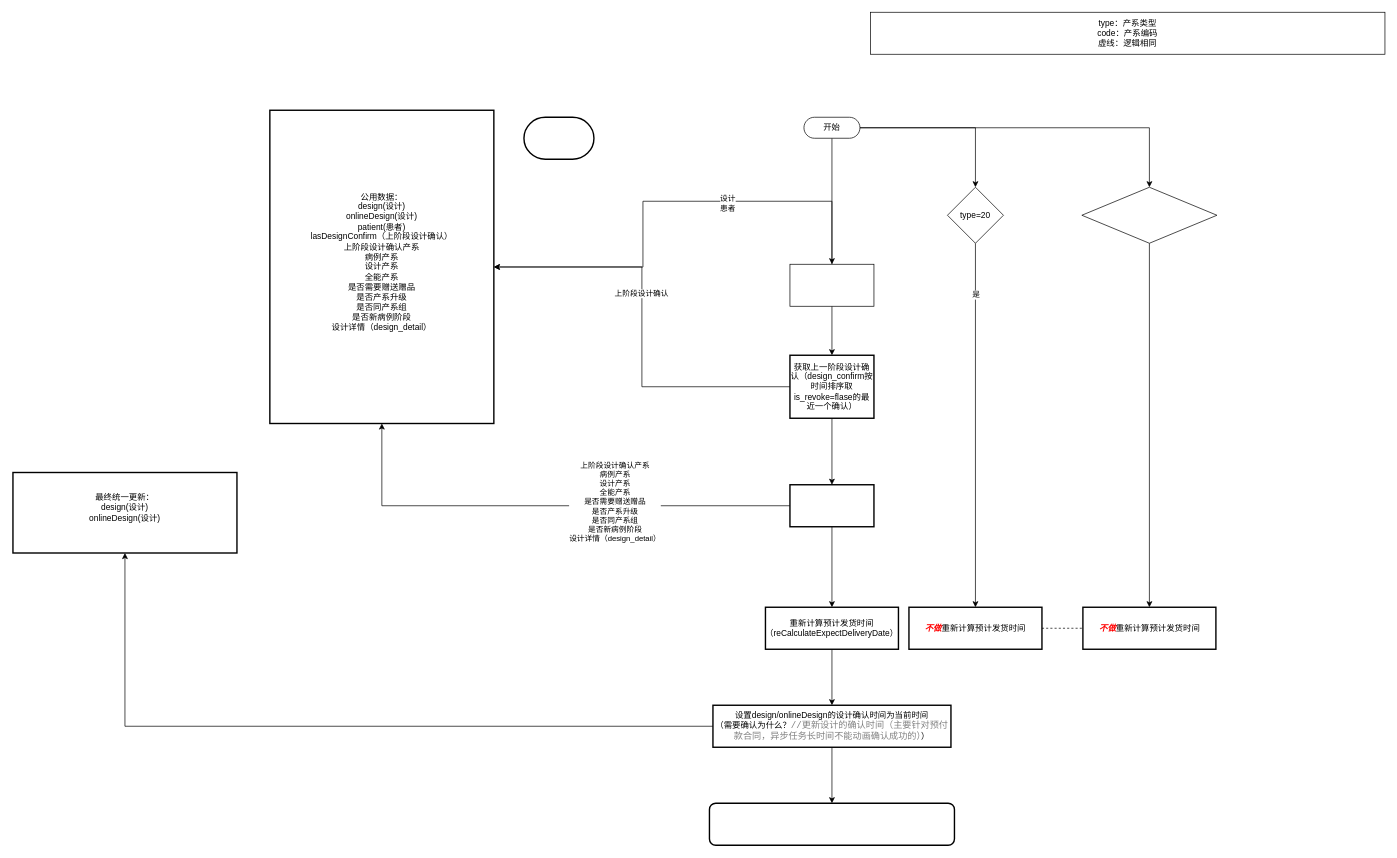
Image size: 1397x858. Some labels were removed from this diagram. Here are the shapes that lost their labels. From the top down, the box of each, then its label:
(523, 116, 594, 160): 报错
(1081, 187, 1217, 243): type=3||type=4||code=20
(789, 264, 874, 306): 通用逻辑: 判断是否可以设计确认
(789, 484, 874, 527): 获取公共数据
(708, 802, 955, 846): 获取是否需要赠送赠品（upgrade_not_send_gift_product_series_ids）
